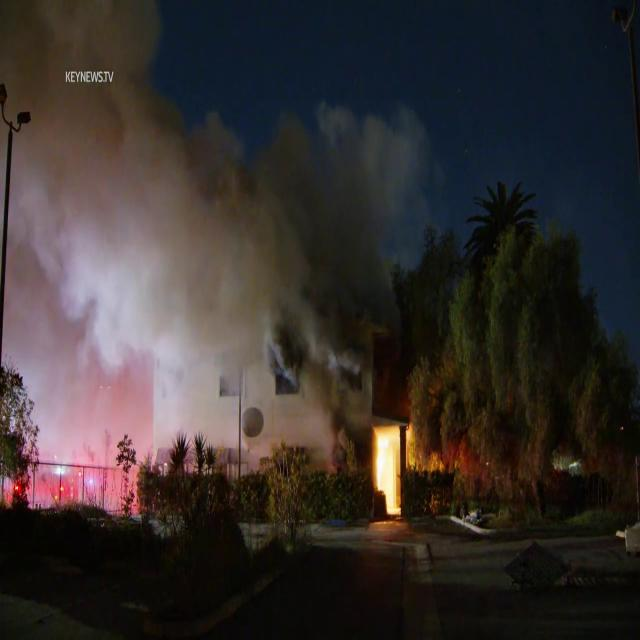Fire: (367, 416, 418, 518)
Smoke: (1, 1, 425, 468)
